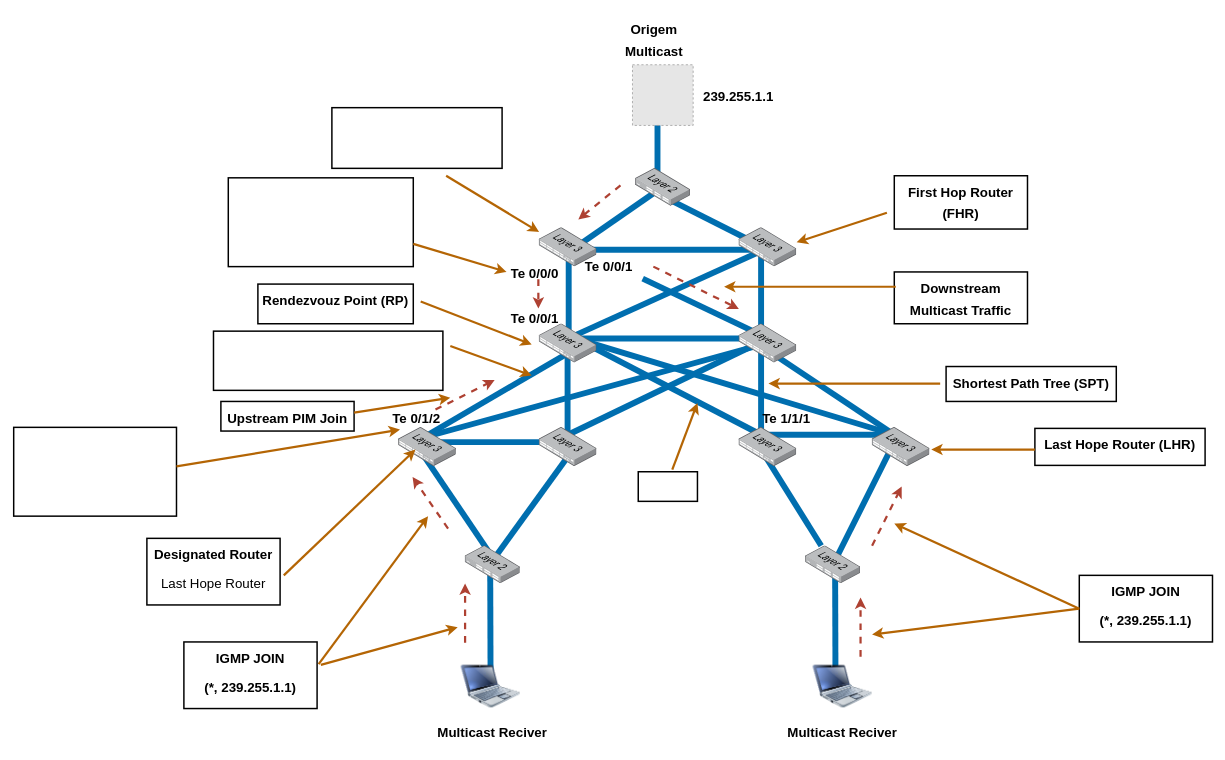
This 1225x760 diagram has some shape labels left out. Grey dashed boxes stand in for pictures. Each missing label, with the centre of its shape:
"Designated Router (DR) First Hop Router (FHR)" goes at [416,138].
"Downstream Interface Outgoing Interface (OI) Multicast Replication Point" goes at [320,222].
"Rendezvouz Point (RP) Tree (RPT) Shortest Path Tree (SPT)" goes at [327,360].
"RPT" goes at [667,486].
"Upstream Interface RPF Interface Incoming Interface (IF)" goes at [95,471].
